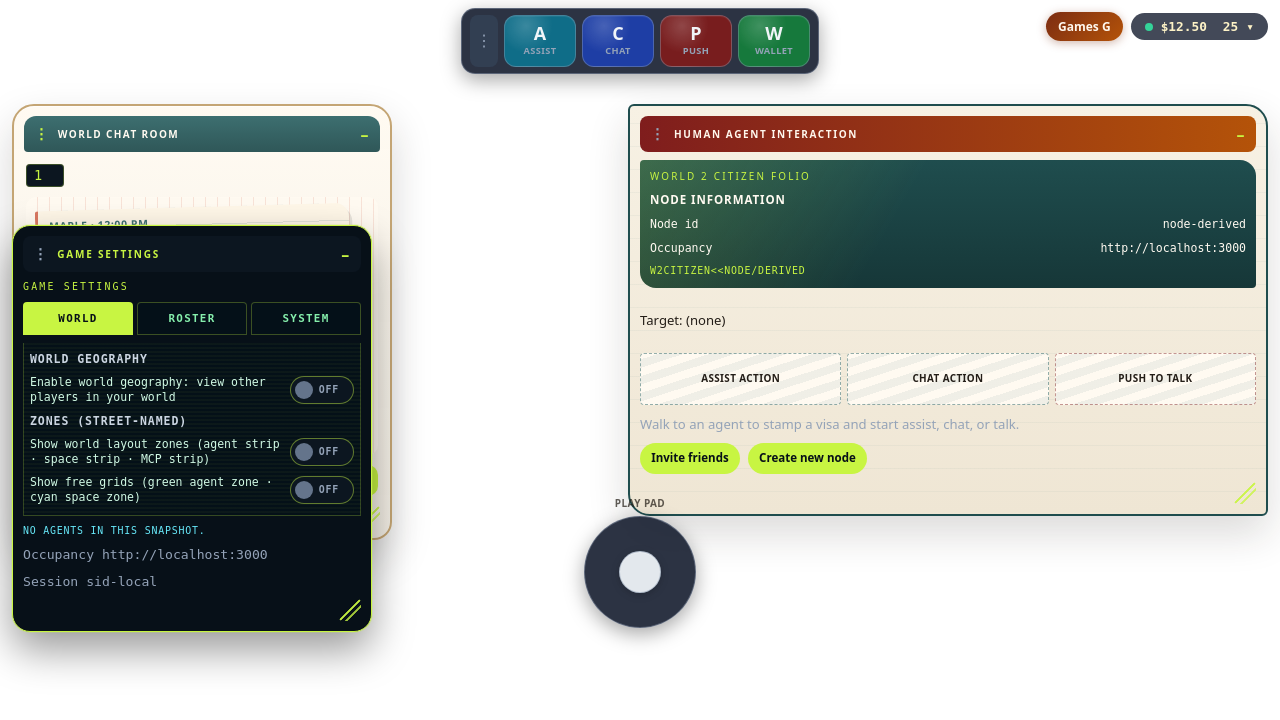
Test: Game shell › prints occupancy wallet, arcade stats, and persisted chat on the play HUD
Expected: the button named "open wallet" shows "$12.50", x1=1131 y1=13 x2=1268 y2=40
Expected: the button named "open wallet" shows "25", x1=1131 y1=13 x2=1268 y2=40
Click the button "Games G" at [1084, 27], box x1=1046 y1=12 x2=1123 y2=41
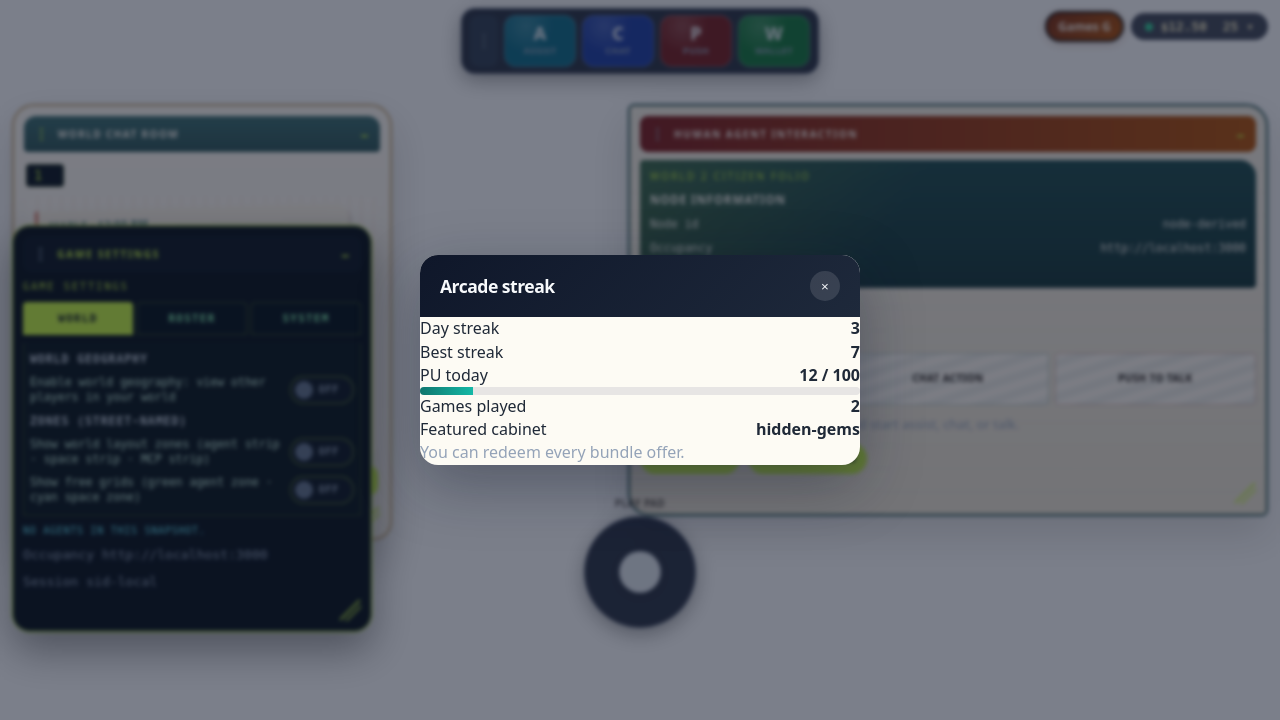
Expected: the text "3" is shown, x1=851 y1=317 x2=860 y2=341
Expected: the text "hidden-gems" is shown, x1=756 y1=418 x2=860 y2=441
